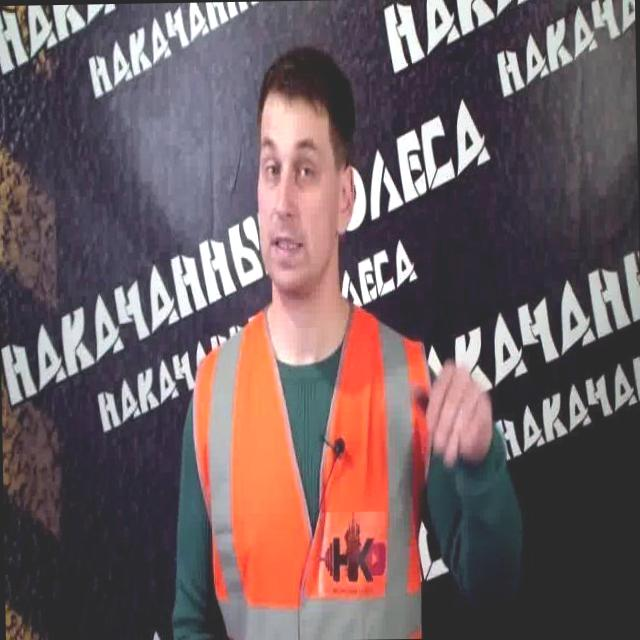vest: (189, 301, 436, 640)
